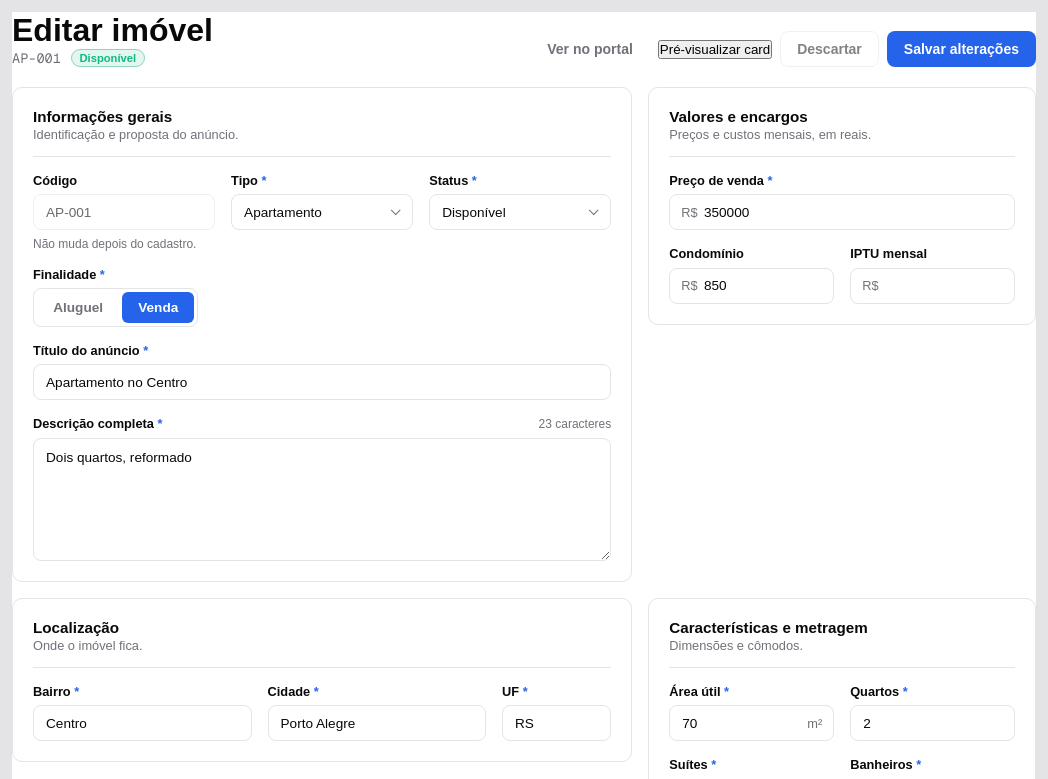
it: EdicaoDeImovel (TEC-400) › alteracao nao salva (TEC-311) › sujo registra; "Descartar" desfaz
Replace the text in the field labelled "Título do anúncio" with "Outro título" at [322, 382], box [33,364,611,400]
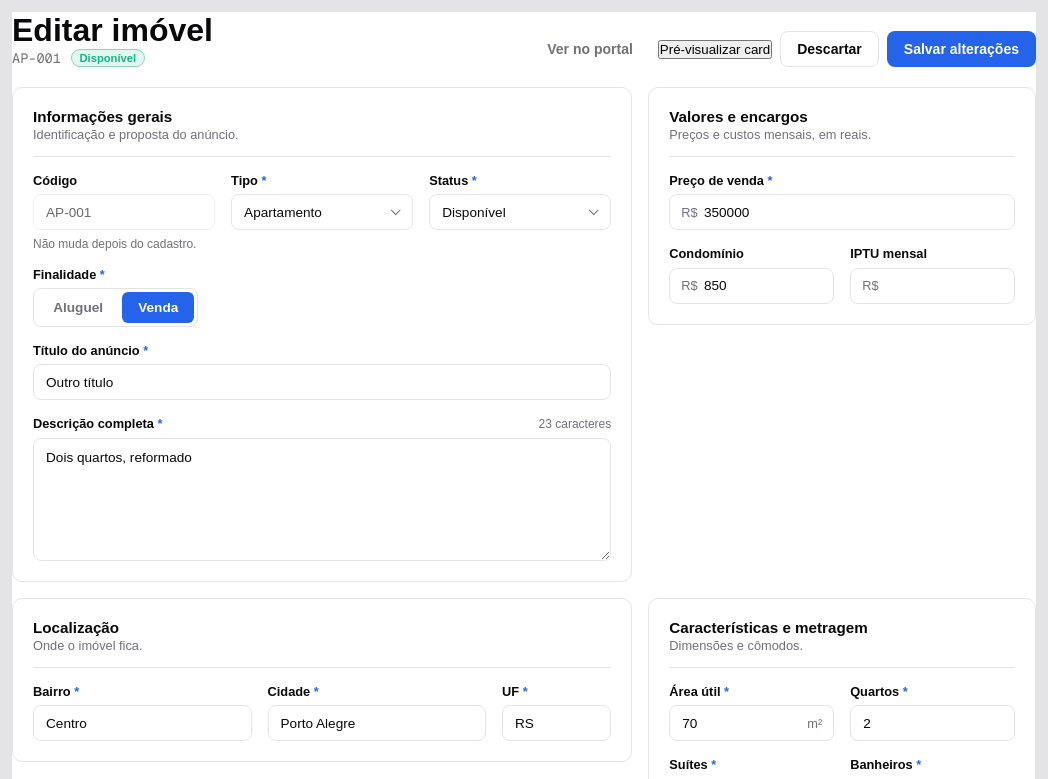
Click the button "Descartar" at [830, 49], box [780,31,879,67]
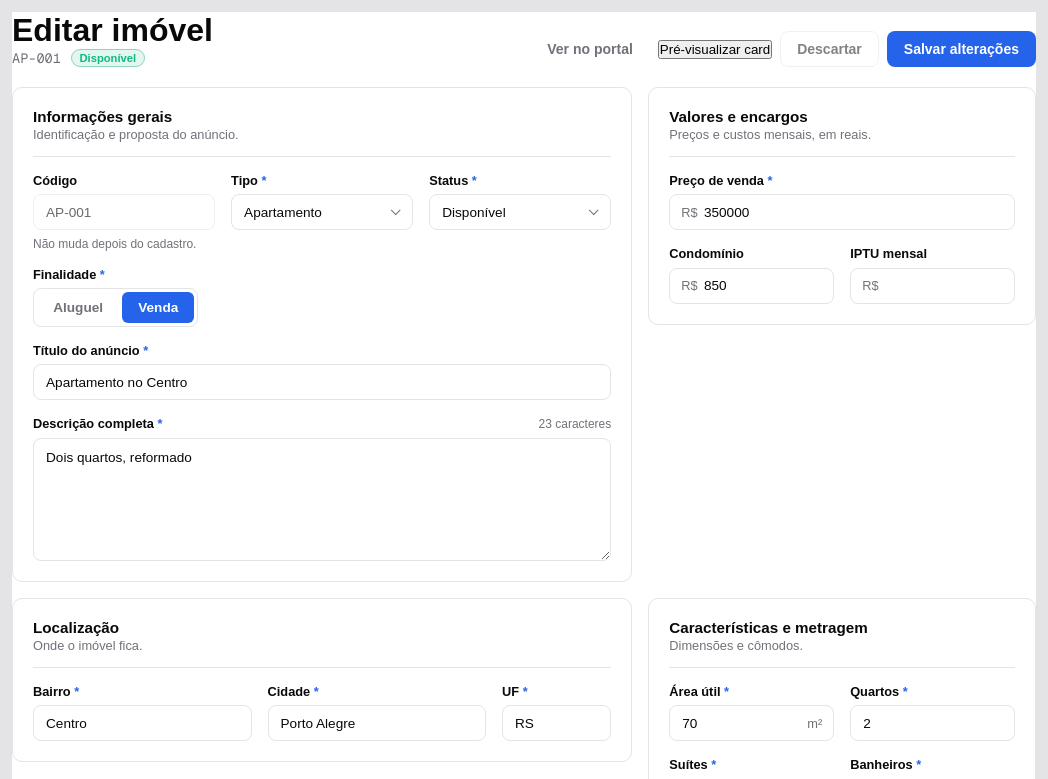
Expected: the field labelled "Título do anúncio" holds "Apartamento no Centro", [33,364,611,400]
